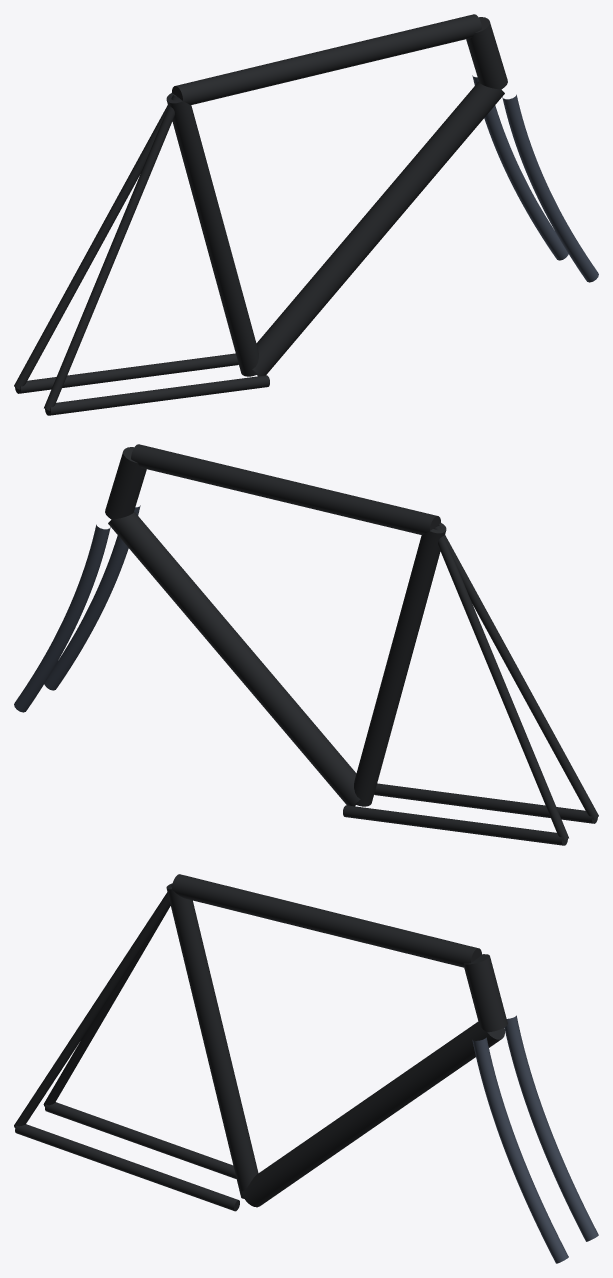
The model's file is dosnoventa-02-la-s.glb.
3 views of the same model, one above another, from view 1: azimuth 30°, elevation 25°; view 2: azimuth 150°, elevation 25°; view 3: azimuth 330°, elevation 25° (orthographic).
Visible parts, largest first — view 1: paint_down, paint_top, paint_seat, paint_seatstay_0.045, fork_0.045, paint_seatstay_-0.045, paint_chainstay_0.045, paint_chainstay_-0.045, fork_-0.045, paint_head; view 2: paint_down, paint_top, paint_seat, paint_seatstay_-0.045, fork_-0.045, paint_seatstay_0.045, paint_chainstay_-0.045, paint_chainstay_0.045, fork_0.045, paint_head; view 3: paint_down, paint_top, paint_seat, fork_0.045, fork_-0.045, paint_chainstay_0.045, paint_seatstay_0.045, paint_chainstay_-0.045, paint_head, paint_seatstay_-0.045.
Boxes of the visible parts, <box> form: paint_down: <box>252,81,504,376</box>; paint_top: <box>172,14,481,104</box>; paint_seat: <box>166,93,258,376</box>; paint_seatstay_0.045: <box>44,96,179,410</box>; fork_0.045: <box>502,94,598,282</box>; paint_seatstay_-0.045: <box>14,94,176,389</box>; paint_chainstay_0.045: <box>45,375,269,415</box>; paint_chainstay_-0.045: <box>15,353,238,393</box>; fork_-0.045: <box>472,75,568,260</box>; paint_head: <box>466,17,507,89</box>; paint_down: <box>108,511,360,806</box>; paint_top: <box>131,444,440,534</box>; paint_seat: <box>354,523,446,806</box>; paint_seatstay_-0.045: <box>433,526,568,840</box>; fork_-0.045: <box>14,524,110,712</box>; paint_seatstay_0.045: <box>436,524,598,819</box>; paint_chainstay_-0.045: <box>343,805,567,845</box>; paint_chainstay_0.045: <box>374,783,597,823</box>; fork_0.045: <box>44,505,140,690</box>; paint_head: <box>105,447,146,519</box>; paint_down: <box>241,1021,504,1207</box>; paint_top: <box>172,874,481,967</box>; paint_seat: <box>166,883,258,1198</box>; fork_0.045: <box>472,1037,568,1263</box>; fork_-0.045: <box>504,1015,598,1241</box>; paint_chainstay_0.045: <box>15,1124,239,1211</box>; paint_seatstay_0.045: <box>14,885,172,1127</box>; paint_chainstay_-0.045: <box>45,1102,236,1178</box>; paint_head: <box>464,954,507,1032</box>; paint_seatstay_-0.045: <box>43,904,170,1106</box>.
Size of the model in its own units: 0.9595 by 0.5156 by 0.112.
